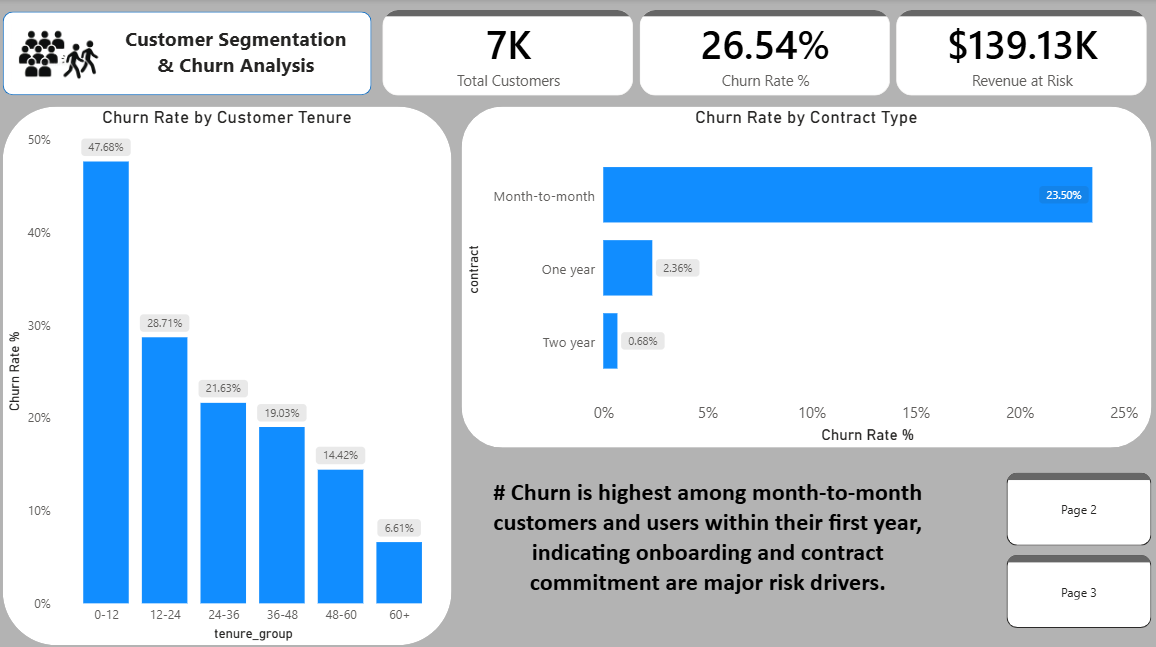

The dashboard page shown, as its layout file describes it:
{"tool":"powerbi","page":{"name":"Page 1","canvas":[1280,720],"ordinal":0},"visuals":[{"type":"cardVisual","fields":{"Data":["Measure.Total Customers","Measure.Churn Rate %","Measure.Revenue at Risk"]},"box":[414.4,0,865.9,118],"z":0},{"type":"shape","box":[9.6,118,492.6,591.4],"z":1000},{"type":"shape","box":[513.2,118,757.5,374.6],"z":2000},{"type":"clusteredBarChart","title":"Churn Rate by Contract Type","fields":{"Y":["Measure.Churn Rate %"],"Category":["dim_subscription.contract"]},"box":[513.2,118,757.5,374.6],"z":3000},{"type":"clusteredColumnChart","title":"Churn Rate by Customer Tenure","fields":{"Category":["dim_customer.tenure_group"],"Y":["Measure.Churn Rate %"]},"box":[9.6,118,492.6,591.4],"z":4000},{"type":"textbox","box":[513.2,520.1,540.7,189.4],"z":5000},{"type":"shape","box":[9.6,13.7,404.8,91.9],"z":6000},{"type":"pageNavigator","box":[1111.5,520.1,159.2,170.2],"z":7000},{"type":"textbox","box":[131.7,23.3,267.6,82.3],"z":7001},{"type":"image","box":[19.2,13.7,101.5,91.9],"z":7002}]}

Visuals, with their boxes in screenshot pixels (x1, y1, x2, y2), scaled from the page's 1280x720 canvas onto the 1156x647 screenshot:
cardVisual - Measure.Total Customers x Measure.Churn Rate %: l=374, t=0, r=1155, b=106
shape: l=9, t=106, r=454, b=637
shape: l=463, t=106, r=1148, b=443
"Churn Rate by Contract Type" clusteredBarChart: l=463, t=106, r=1148, b=443
"Churn Rate by Customer Tenure" clusteredColumnChart: l=9, t=106, r=454, b=637
textbox: l=463, t=467, r=952, b=638
shape: l=9, t=12, r=374, b=95
pageNavigator: l=1004, t=467, r=1148, b=620
textbox: l=119, t=21, r=361, b=95
image: l=17, t=12, r=109, b=95
